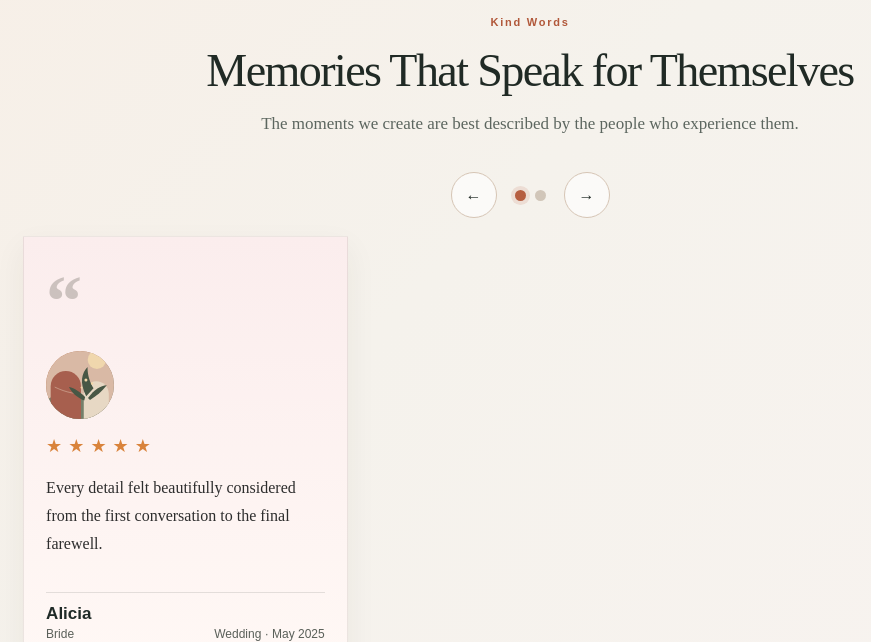
Test case: HomepageTestimonialsSection › renders the testimonial section and cycles through slides with the controls
This screenshot has width=871, height=642.
Expected: the text "Kind Words" is shown, [490,16,570,28]
Expected: the text "Alicia" is shown, [46,603,92,625]
Click the button named "Next testimonial" at (586, 195), box [564,172,610,218]
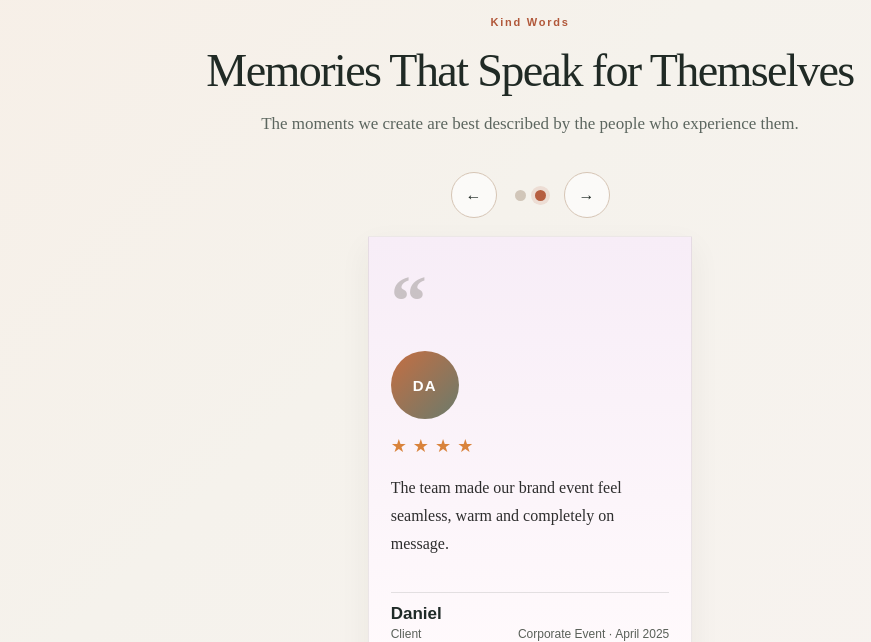
Expected: the text "Daniel" is shown, [391,603,442,625]
